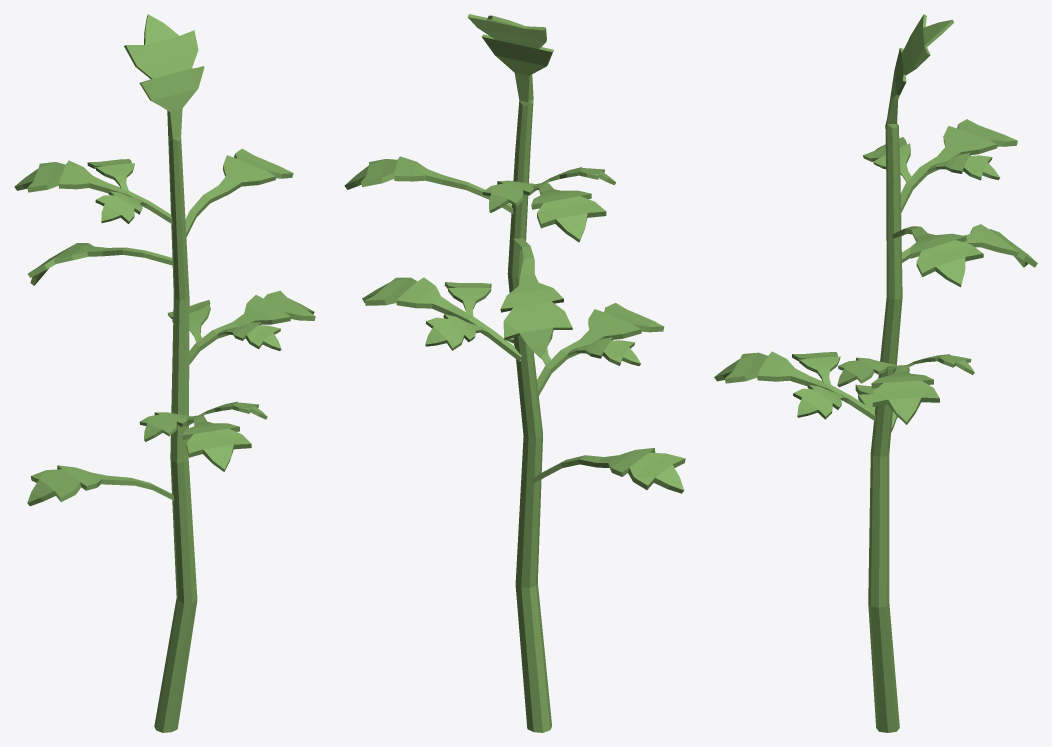
The model's file is crop-tomato-3.glb.
The picture shows the model from 3 angles, left to right: view 1: azimuth 30°, elevation 25°; view 2: azimuth 150°, elevation 25°; view 3: azimuth 270°, elevation 25°; orthographic projection. The views are drawn at different scales.
Parts seen in each view (by area): view 1: Cube_021; view 2: Cube_021; view 3: Cube_021.
Part boxes in pixels (x1,y1,x2,y2): Cube_021: (14, 14, 315, 732); Cube_021: (344, 14, 685, 732); Cube_021: (714, 14, 1037, 732).
Bounding box in the file's own units: 0.6408 × 1.43 × 0.5863.
